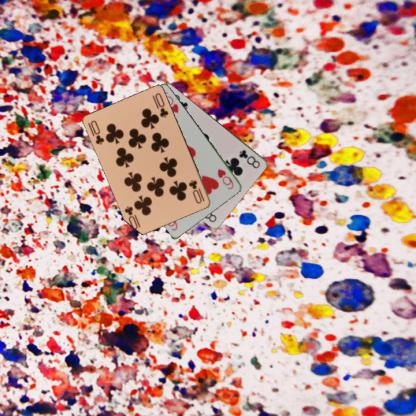10c: (186, 177, 206, 205), (88, 118, 106, 146)
6h: (215, 166, 235, 190)
8c: (236, 147, 262, 170)
